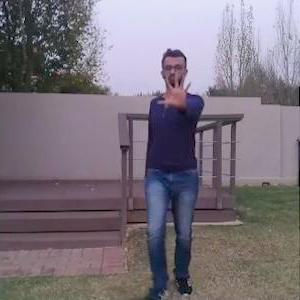follow_hand: (156, 70, 195, 108)
